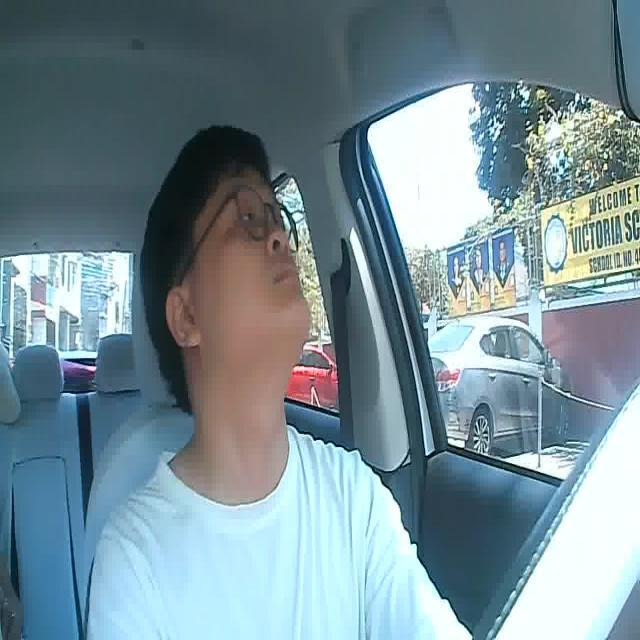Eye-Open: (239, 205, 261, 229), (274, 214, 290, 231)
Inattentive: (138, 126, 313, 374)
Normal: (263, 260, 302, 296)
